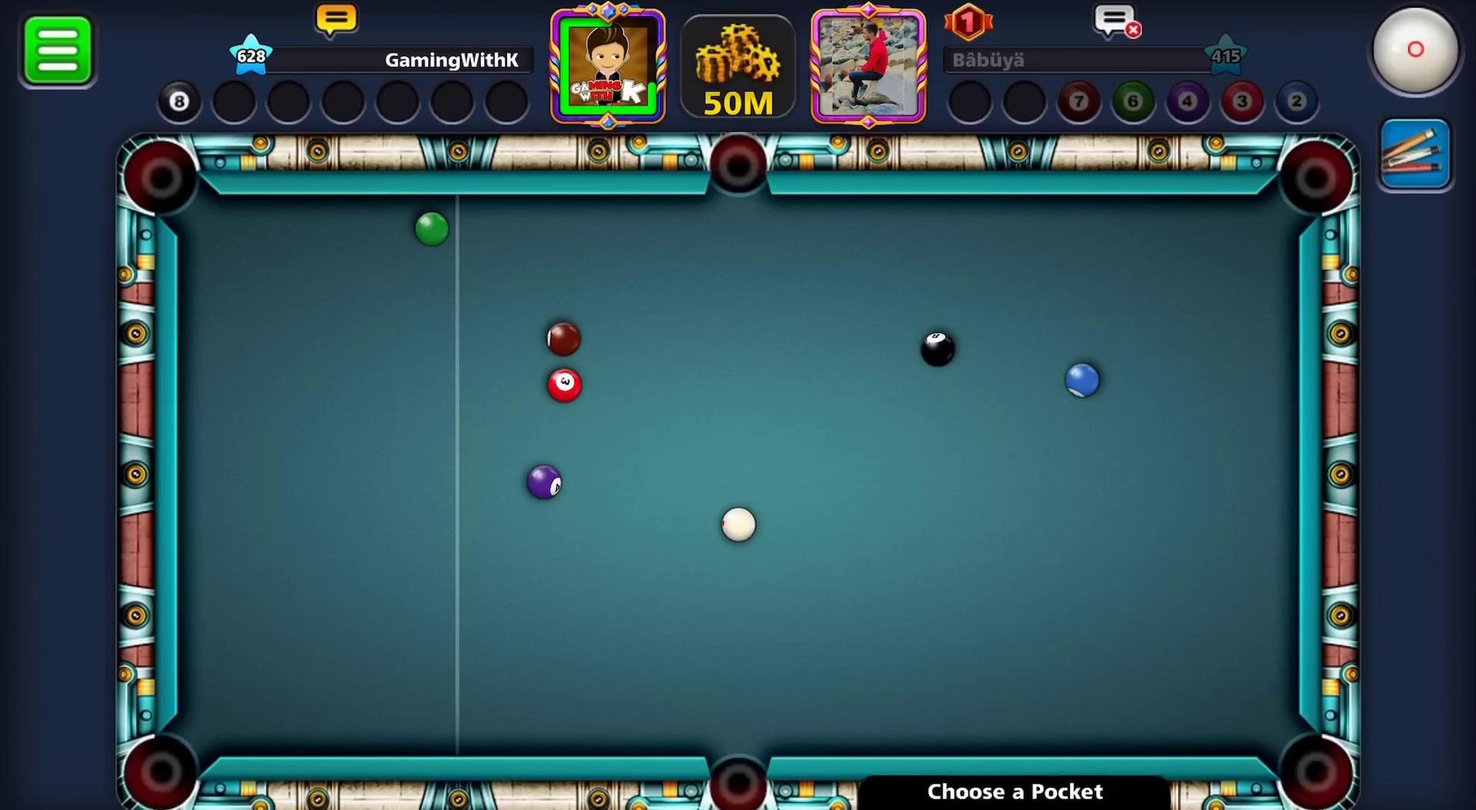Ball: (516, 455, 572, 509), (532, 315, 585, 363), (540, 359, 587, 410), (1061, 359, 1105, 408), (916, 329, 961, 372), (406, 210, 448, 249)
Hole: (105, 709, 223, 809), (1258, 708, 1365, 808), (108, 125, 208, 226), (682, 714, 779, 809), (1270, 127, 1362, 227), (700, 119, 789, 218)
Play_Area: (182, 194, 1298, 760)
Spin: (1363, 0, 1475, 109)
White: (715, 502, 761, 549)
